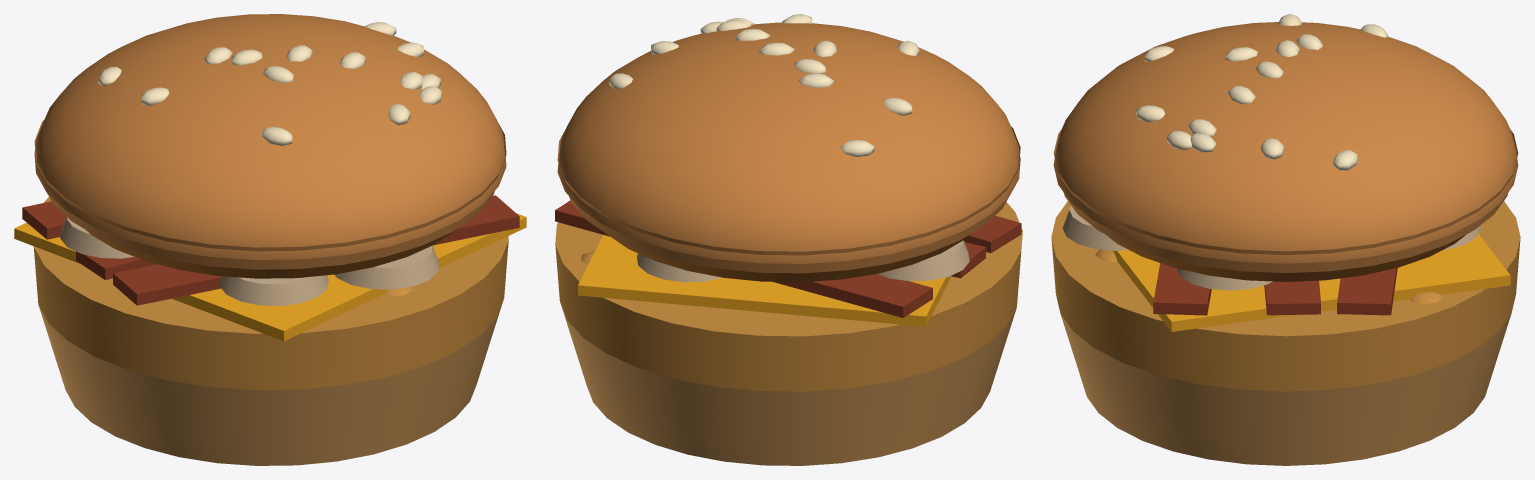
Rendered from burger-pollo-champi.glb.
The picture shows the model from 3 angles, left to right: view 1: azimuth 30°, elevation 25°; view 2: azimuth 150°, elevation 25°; view 3: azimuth 270°, elevation 25°; orthographic projection.
Size of the model in its own units: 0.1591 by 0.122 by 0.1591.
